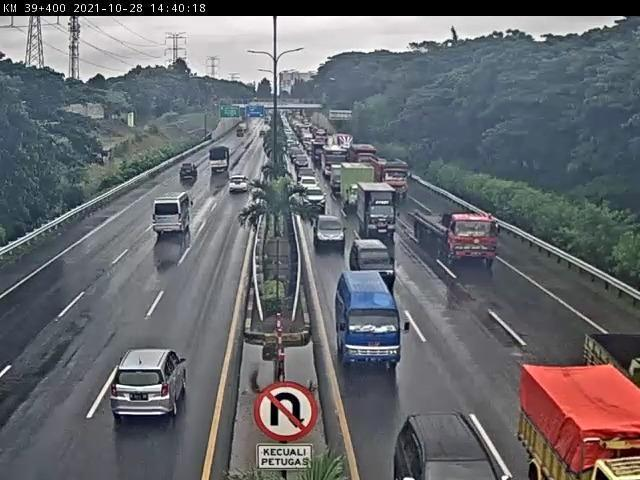bus: (333, 271, 413, 375)
